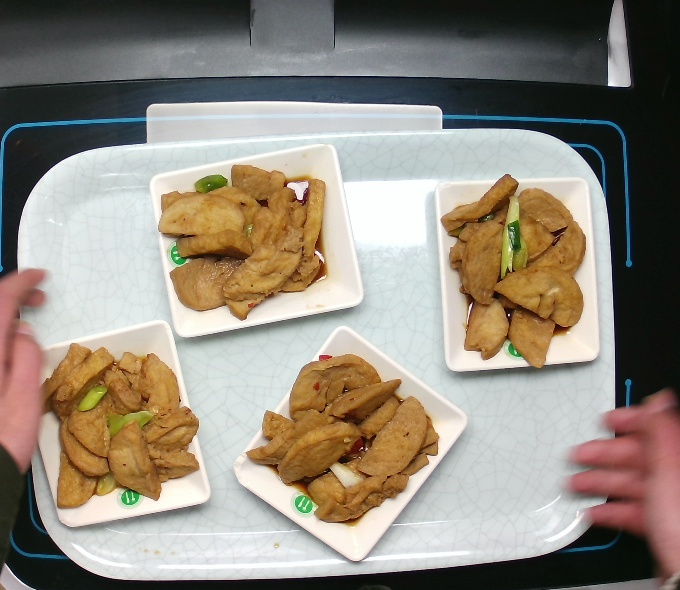wcq-SuJi: (244, 348, 446, 525), (150, 147, 331, 323), (27, 338, 208, 514), (439, 168, 597, 365)
